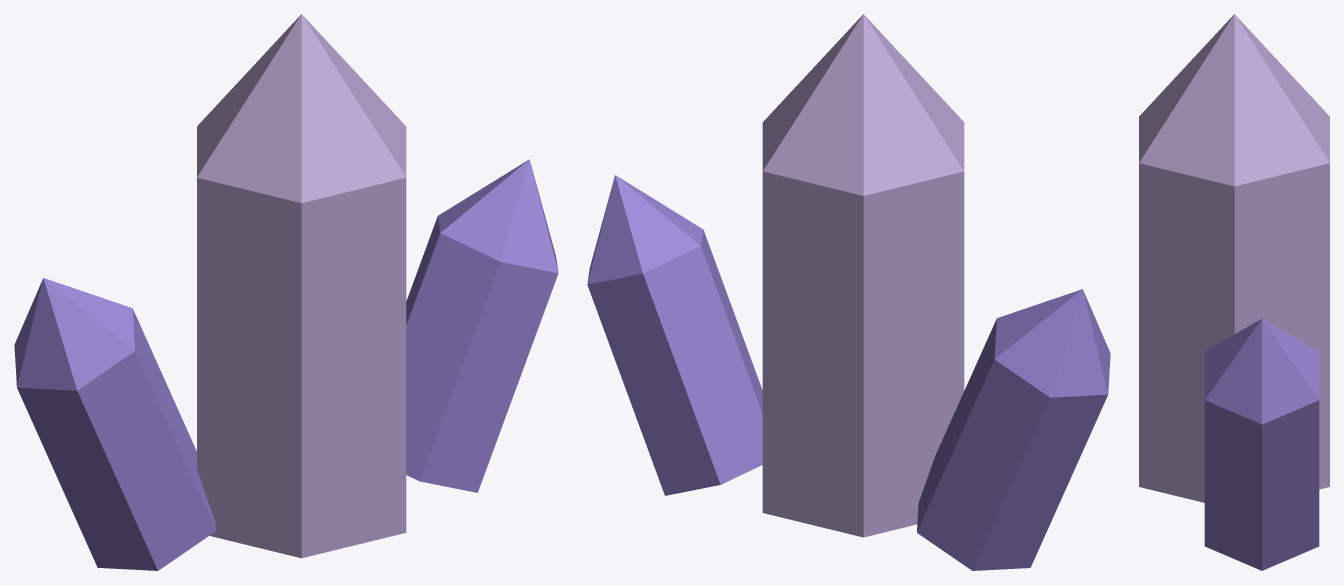
File: mat_kingcrystal.glb
3 renders of one model, left to right at view 1: azimuth 30°, elevation 25°; view 2: azimuth 150°, elevation 25°; view 3: azimuth 270°, elevation 25°, orthographic. The views are drawn at different scales.
Parts seen in each view (by area): view 1: _crystal; view 2: _crystal; view 3: _crystal.
Boxes of the visible parts, box(x1,y1,x2,y2) form: _crystal: box(14, 14, 558, 570); _crystal: box(587, 14, 1110, 570); _crystal: box(1139, 14, 1329, 570).
Size of the model in its own units: 1.03 by 0.9467 by 0.3464.
